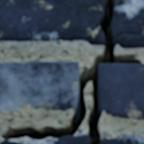brick: (0, 62, 78, 110), (99, 64, 143, 118)
broken_brick: (0, 0, 103, 46), (113, 0, 143, 48), (0, 134, 89, 143), (102, 136, 143, 143)
crack: (0, 0, 142, 143), (50, 86, 61, 109)
